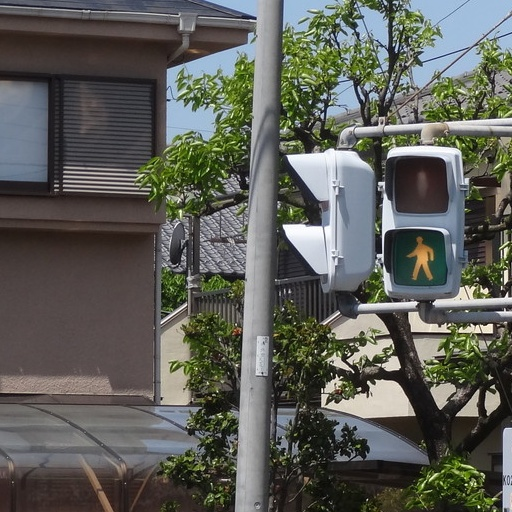Pedestrian_Signal_Blue: (383, 142, 459, 293)
